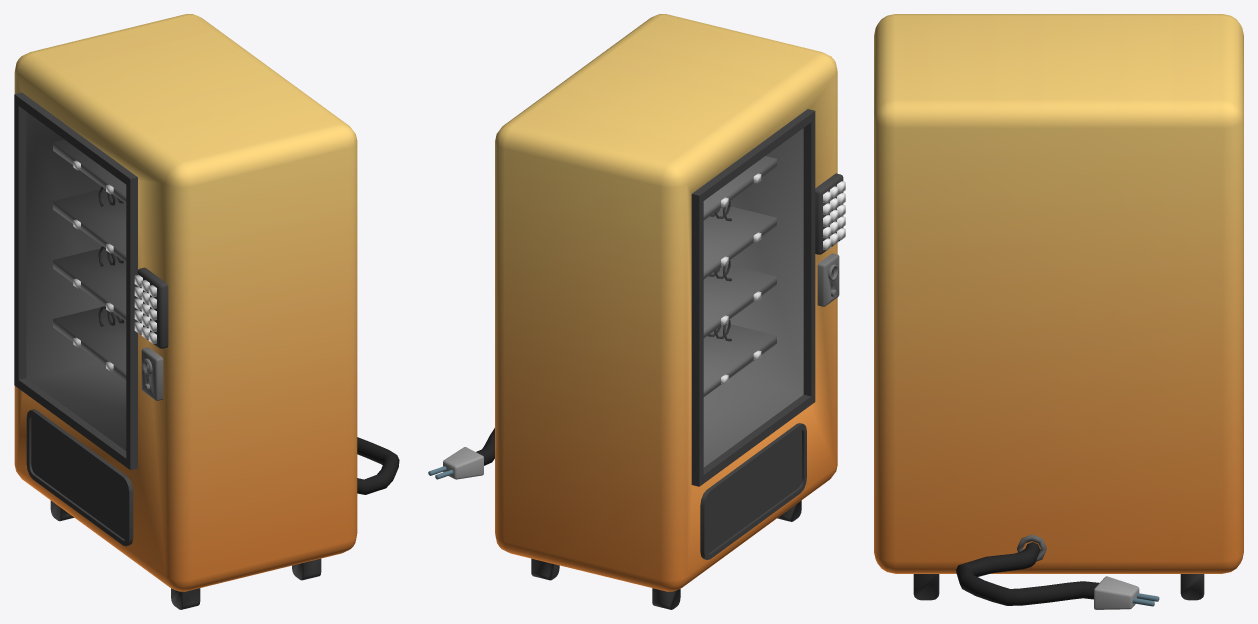
File: Vending Machine01.fbx
3 renders of one model, left to right at view 1: azimuth 30°, elevation 25°; view 2: azimuth 150°, elevation 25°; view 3: azimuth 270°, elevation 25°, orthographic. The views are drawn at different scales.
Parts seen in each view (by area): view 1: Vending Machine01; view 2: Vending Machine01; view 3: Vending Machine01.
Part boxes in pixels (<box>): Vending Machine01: <box>14,14,399,609</box>; Vending Machine01: <box>428,14,845,609</box>; Vending Machine01: <box>874,14,1243,609</box>.
Bounding box in the file's own units: 1.03 × 0.9899 × 1.49.
